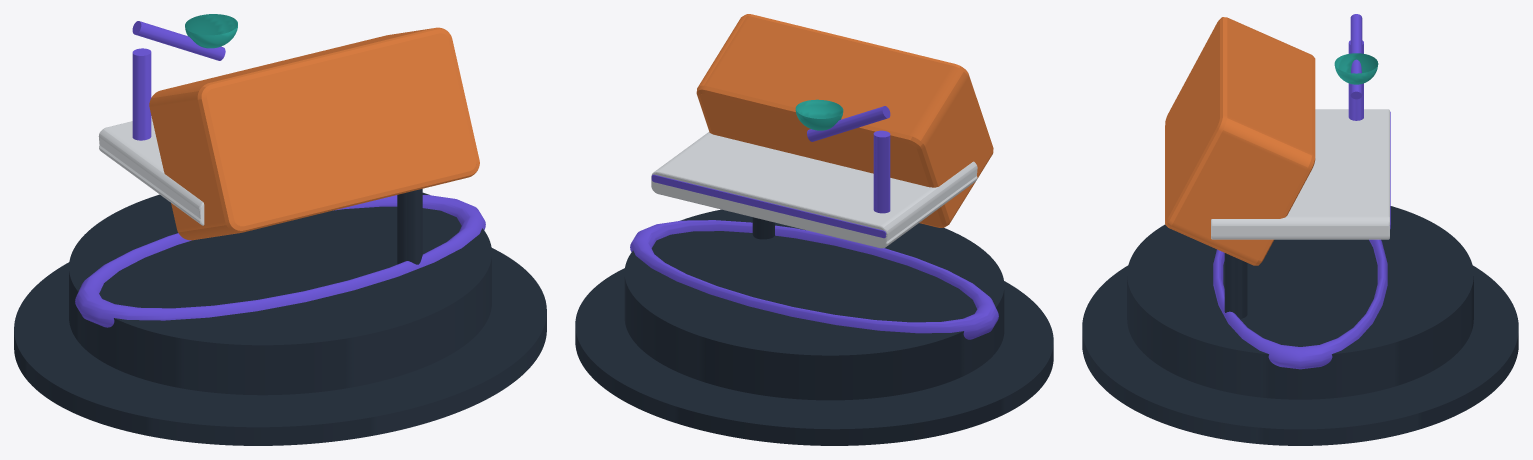
Rendered from 0572_伟大的发明图鉴_摩尔斯电报机.glb.
3 renders of one model, left to right at view 1: azimuth 30°, elevation 25°; view 2: azimuth 150°, elevation 25°; view 3: azimuth 270°, elevation 25°, orthographic. The views are drawn at different scales.
Visible parts, largest first — view 1: card_0572; view 2: card_0572; view 3: card_0572.
Boxes of the visible parts, bbox=[...] form: card_0572: bbox=[14, 14, 546, 445]; card_0572: bbox=[575, 14, 1053, 445]; card_0572: bbox=[1082, 14, 1518, 445].
Size of the model in its own units: 1.54 by 1 by 1.4.
